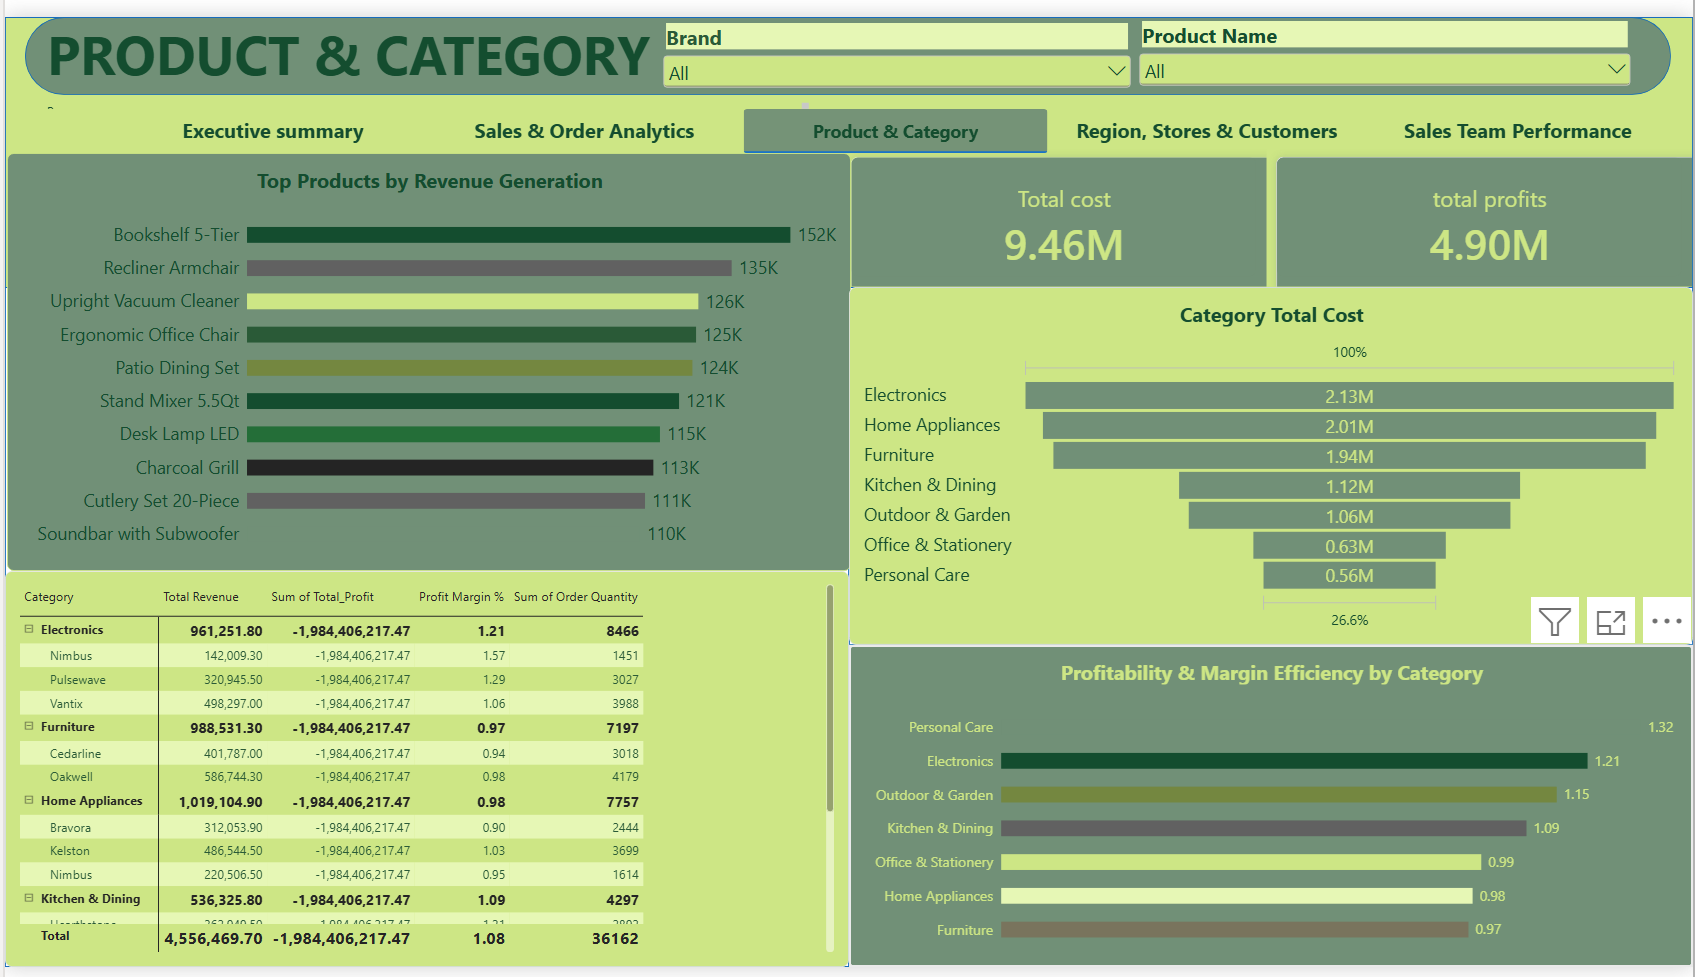

The page's visual inventory and layout, read from the dashboard file:
{"tool":"powerbi","page":{"name":"Product & Category","canvas":[1920,1080],"ordinal":2},"visuals":[{"type":"shape","box":[0,0,1920,1080.6],"z":0},{"type":"shape","box":[0,307.1,960,407.2],"z":0,"group":"g2"},{"type":"shape","box":[0,714.3,960,366.3],"z":0,"group":"g1"},{"type":"shape","box":[22.7,0,1872.2,88.7],"z":1000},{"type":"shape","box":[960,307.1,960,407.2],"z":1000,"group":"g2"},{"type":"shape","box":[960,714.3,960,366.3],"z":1000,"group":"g1"},{"type":"group","id":"g1","title":"Group 1","box":[0,714.3,1920,366.3],"z":2000},{"type":"group","id":"g2","title":"Group 1","box":[0,307.1,1920,407.2],"z":3000},{"type":"cardVisual","fields":{"Data":["oyinkansola customer_usa.Total cost","Query1.total profits"]},"box":[950.9,147.9,969.1,159.2],"z":4000},{"type":"barChart","title":"Top Products by Revenue Generation","fields":{"Category":["oyinkansola product_usa.Product Name"],"Y":["oyinkansola customer_usa.Total Revenue"]},"box":[2.3,154.7,960,475.5],"z":5000},{"type":"treemap","title":"Category & Brand Revenue Mix","fields":{"Details":["oyinkansola product_usa.Brand"],"Group":["oyinkansola product_usa.Category"],"Values":["oyinkansola customer_usa.Total Revenue"]},"box":[960,307.1,960,407.2],"z":6000},{"type":"clusteredBarChart","title":"Profitability  & Margin Efficiency by Category","fields":{"Category":["oyinkansola product_usa.Category"],"Y":["oyinkansola customer_usa.Profit Margin %"]},"box":[960,714.3,960,366.3],"z":7000},{"type":"pivotTable","fields":{"Rows":["oyinkansola product_usa.Category","oyinkansola product_usa.Brand"],"Values":["oyinkansola customer_usa.Total Revenue","Sum(Query3.Total_Profit)","oyinkansola customer_usa.Profit Margin %","Sum(oyinkansola sales_order_usa.Order Quantity)"]},"box":[0,630.1,960,450.4],"z":8000},{"type":"textbox","title":"PRODUCT & CATEGORY","box":[47.8,0,866.7,104.6],"z":9000},{"type":"slicer","fields":{"Values":["oyinkansola product_usa.Product Name"]},"box":[1273.9,6.8,568.7,81.9],"z":10000},{"type":"slicer","fields":{"Values":["oyinkansola product_usa.Brand"]},"box":[680.2,0,541.4,88.7],"z":11000},{"type":"pageNavigator","box":[131.9,104.6,1765.3,50],"z":12001}]}

Visuals, with their boxes in screenshot pixels (x1, y1, x2, y2), scaled from the page's 1920x1080 canvas onto the 1704x977 screenshot:
shape: [x1=0, y1=0, x2=1703, y2=976]
shape: [x1=0, y1=278, x2=852, y2=646]
shape: [x1=0, y1=646, x2=852, y2=976]
shape: [x1=20, y1=0, x2=1682, y2=80]
shape: [x1=852, y1=278, x2=1703, y2=646]
shape: [x1=852, y1=646, x2=1703, y2=976]
"Group 1" group: [x1=0, y1=646, x2=1703, y2=976]
"Group 1" group: [x1=0, y1=278, x2=1703, y2=646]
cardVisual - oyinkansola customer_usa.Total cost x Query1.total profits: [x1=844, y1=134, x2=1703, y2=278]
"Top Products by Revenue Generation" barChart: [x1=2, y1=140, x2=854, y2=570]
"Category & Brand Revenue Mix" treemap: [x1=852, y1=278, x2=1703, y2=646]
"Profitability  & Margin Efficiency by Category" clusteredBarChart: [x1=852, y1=646, x2=1703, y2=976]
pivotTable - oyinkansola product_usa.Category x oyinkansola product_usa.Brand: [x1=0, y1=570, x2=852, y2=976]
"PRODUCT & CATEGORY" textbox: [x1=42, y1=0, x2=812, y2=95]
slicer - oyinkansola product_usa.Product Name: [x1=1131, y1=6, x2=1635, y2=80]
slicer - oyinkansola product_usa.Brand: [x1=604, y1=0, x2=1084, y2=80]
pageNavigator: [x1=117, y1=95, x2=1684, y2=140]
